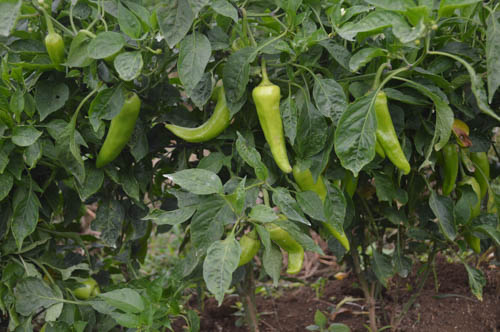ChiliPepper: (163, 87, 241, 142), (296, 168, 349, 246), (364, 91, 412, 172), (248, 86, 293, 172), (100, 96, 141, 166), (267, 223, 303, 253), (233, 234, 258, 267), (46, 33, 68, 70)
